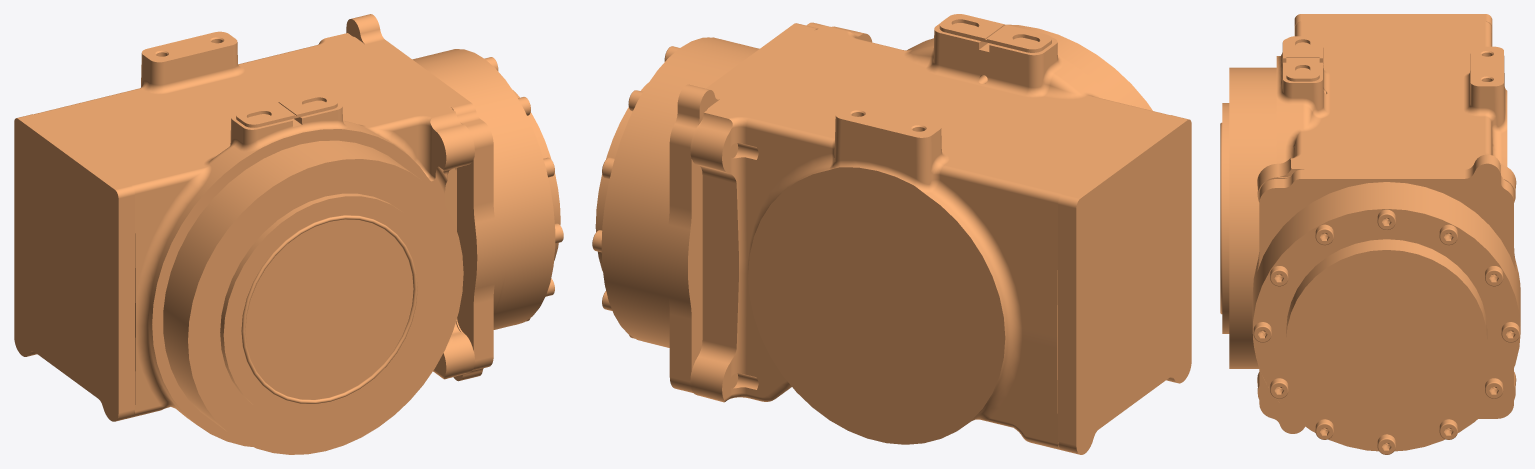
The picture shows the model from 3 angles, left to right: view 1: azimuth 30°, elevation 25°; view 2: azimuth 150°, elevation 25°; view 3: azimuth 270°, elevation 25°; orthographic projection. The views are drawn at different scales.
Parts seen in each view (by area): view 1: R7-900_JOINT5; view 2: R7-900_JOINT5; view 3: R7-900_JOINT5.
Part boxes in pixels (x1,y1,x2,y2): R7-900_JOINT5: (14, 14, 563, 454); R7-900_JOINT5: (592, 14, 1191, 454); R7-900_JOINT5: (1220, 14, 1520, 454).
Bounding box in the file's own units: 0.1429 × 0.0897 × 0.1015.
